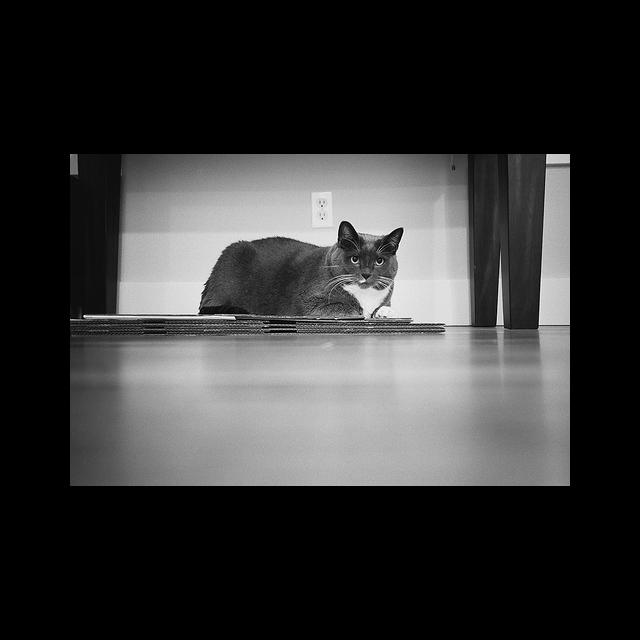animals: (339, 220, 402, 278)
